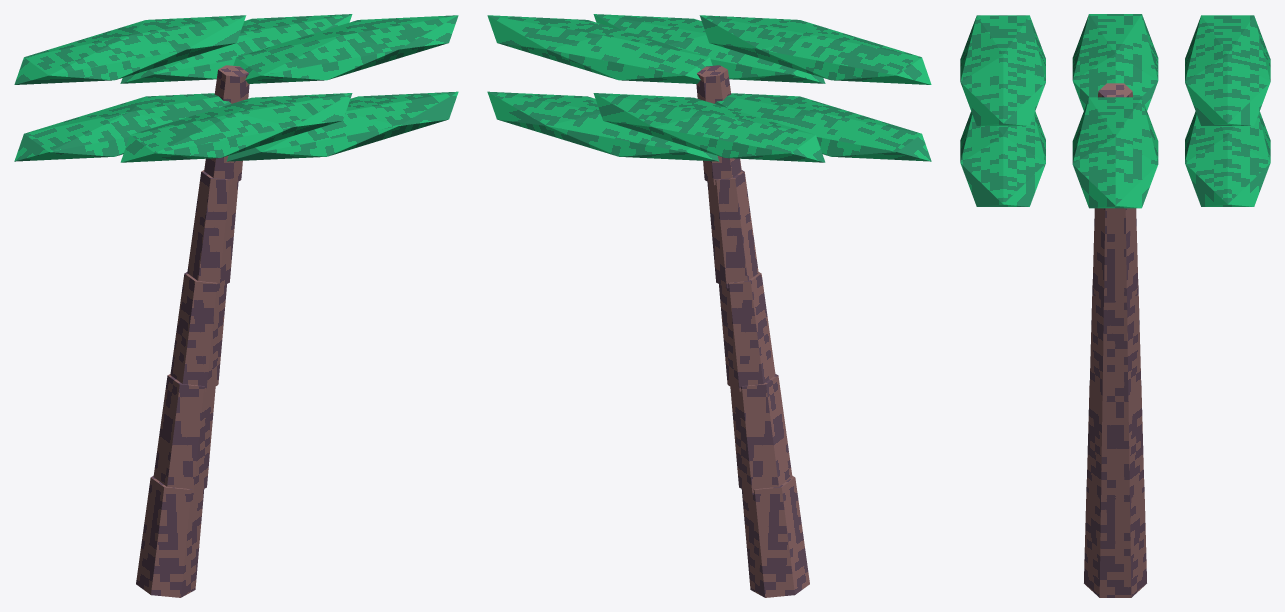
The model's file is a51_palmeira_inclinada.glb.
3 renders of one model, left to right at view 1: azimuth 30°, elevation 25°; view 2: azimuth 150°, elevation 25°; view 3: azimuth 270°, elevation 25°, orthographic. The views are drawn at different scales.
Parts seen in each view (by area): view 1: a51_palmeira_inclinada; view 2: a51_palmeira_inclinada; view 3: a51_palmeira_inclinada.
Boxes of the visible parts, <box> form: a51_palmeira_inclinada: <box>14,14,458,597</box>; a51_palmeira_inclinada: <box>487,14,931,597</box>; a51_palmeira_inclinada: <box>960,14,1270,597</box>.
Size of the model in its own units: 3.77 by 4.14 by 2.15.
2 materials, 2 textured.
